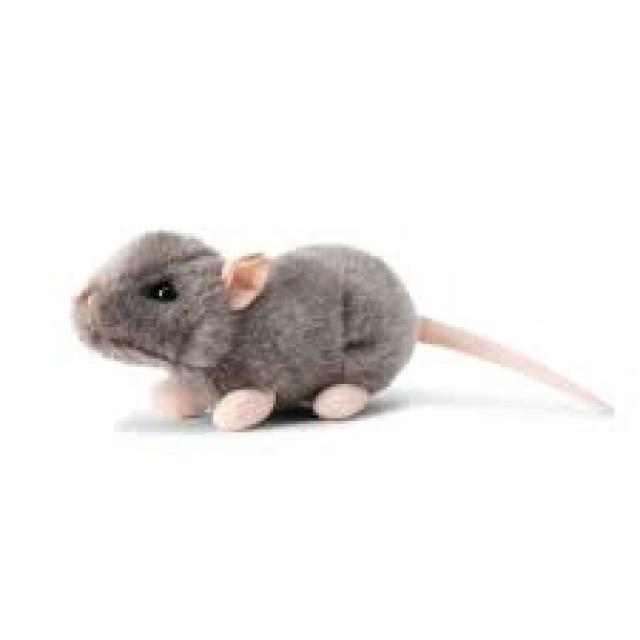Rat: (53, 158, 550, 482)
